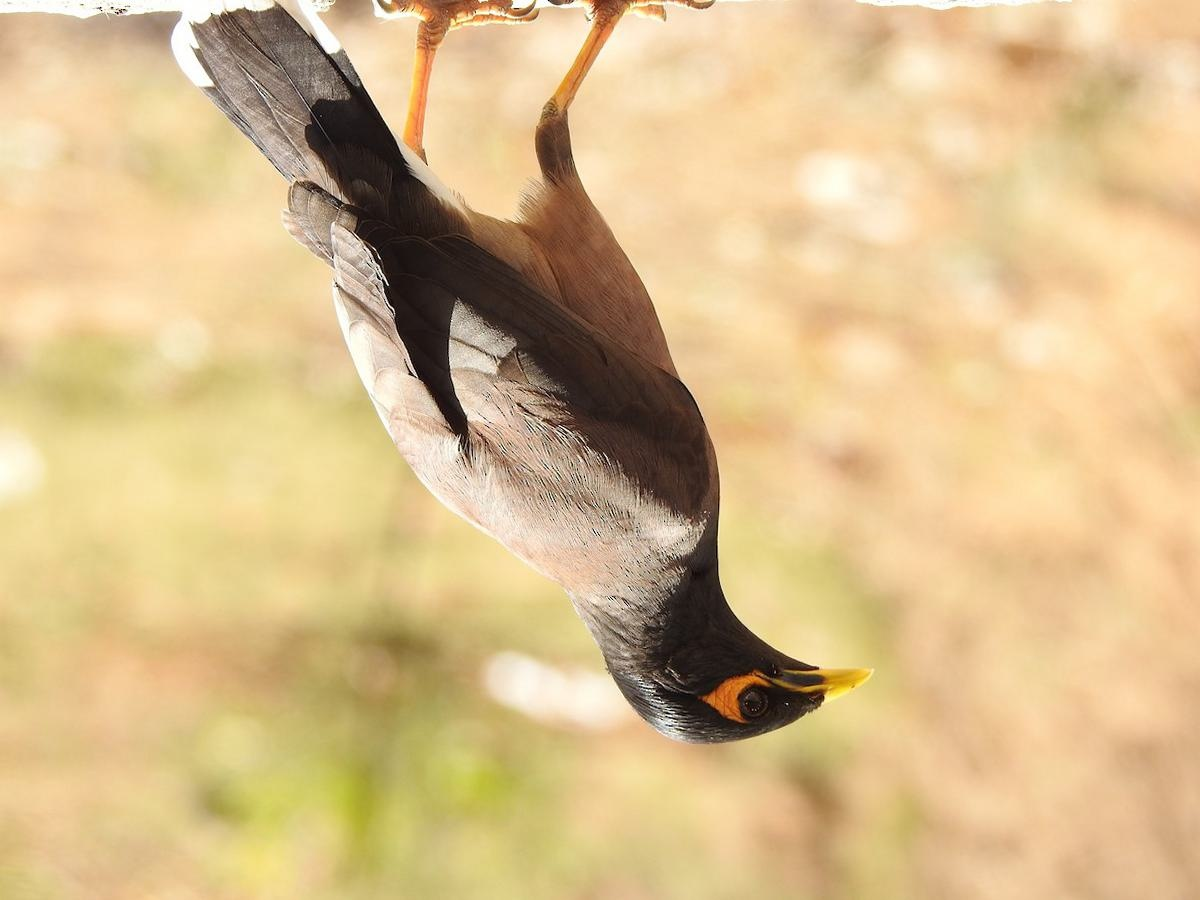myna: (166, 1, 867, 787)
